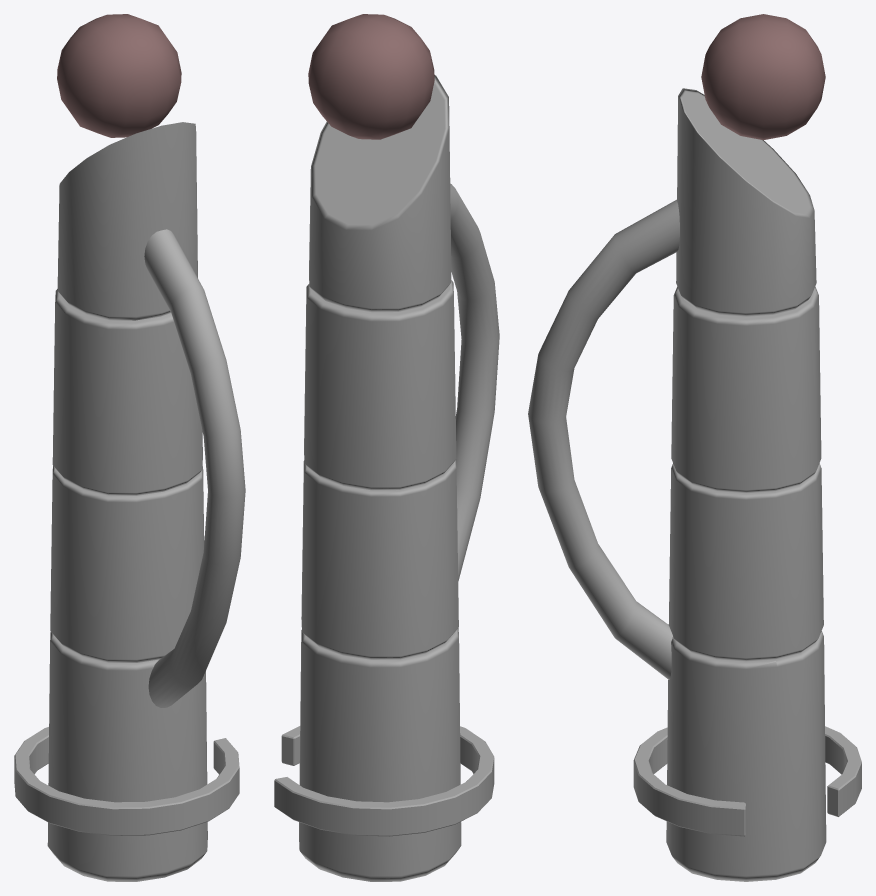
File: tower_LVL1_Small.fbx
3 renders of one model, left to right at view 1: azimuth 30°, elevation 25°; view 2: azimuth 150°, elevation 25°; view 3: azimuth 270°, elevation 25°, orthographic.
Parts seen in each view (by area): view 1: polySurface2, polySurface1; view 2: polySurface2, polySurface1; view 3: polySurface2, polySurface1.
Boxes of the visible parts, x1=… form: polySurface2: x1=14, y1=122, x2=245, y2=881; polySurface1: x1=57, y1=14, x2=181, y2=137; polySurface2: x1=274, y1=75, x2=499, y2=881; polySurface1: x1=308, y1=14, x2=434, y2=139; polySurface2: x1=528, y1=88, x2=861, y2=881; polySurface1: x1=701, y1=14, x2=825, y2=140.
Size of the model in its own units: 5.02 by 20.13 by 7.34.
